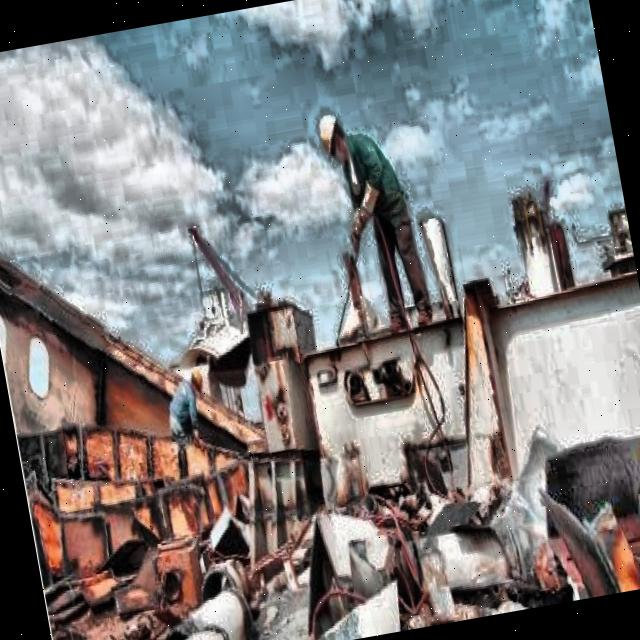helmet: (314, 106, 352, 170), (184, 365, 207, 399)
